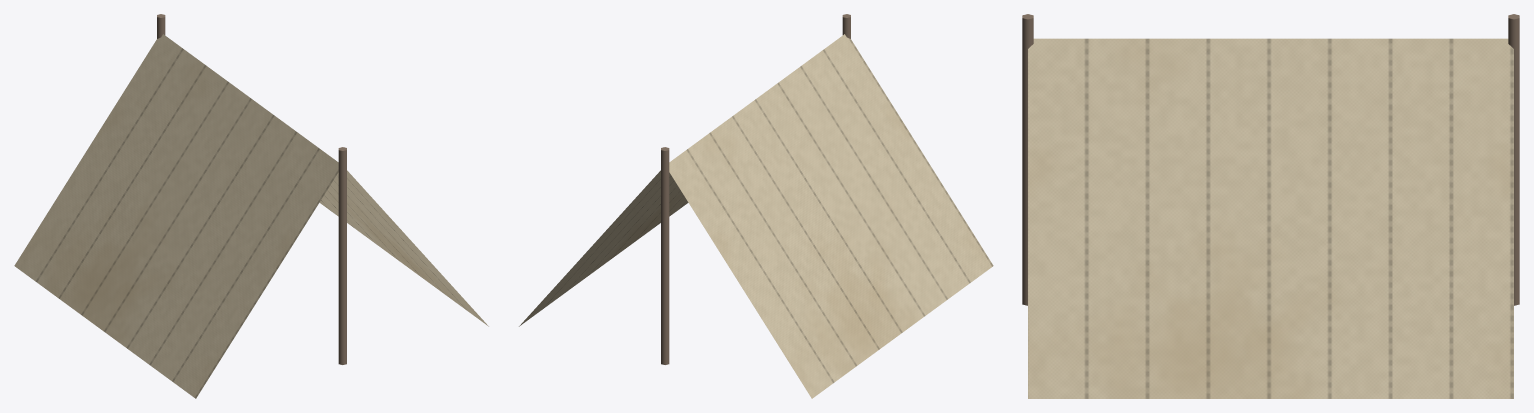
The model's file is SM_Art_Settlement_Camp_4.gltf.
3 views of the same model, side by side, from view 1: azimuth 30°, elevation 25°; view 2: azimuth 150°, elevation 25°; view 3: azimuth 270°, elevation 25° (orthographic). The views are drawn at different scales.
Visible parts, largest first — view 1: SM_Art_Settlement_Camp_4; view 2: SM_Art_Settlement_Camp_4; view 3: SM_Art_Settlement_Camp_4.
Part boxes in pixels (bbox=[...]): SM_Art_Settlement_Camp_4: bbox=[14, 14, 488, 398]; SM_Art_Settlement_Camp_4: bbox=[519, 14, 993, 398]; SM_Art_Settlement_Camp_4: bbox=[1022, 14, 1519, 398].
Size of the model in its own units: 2.8 by 1.95 by 3.07.
